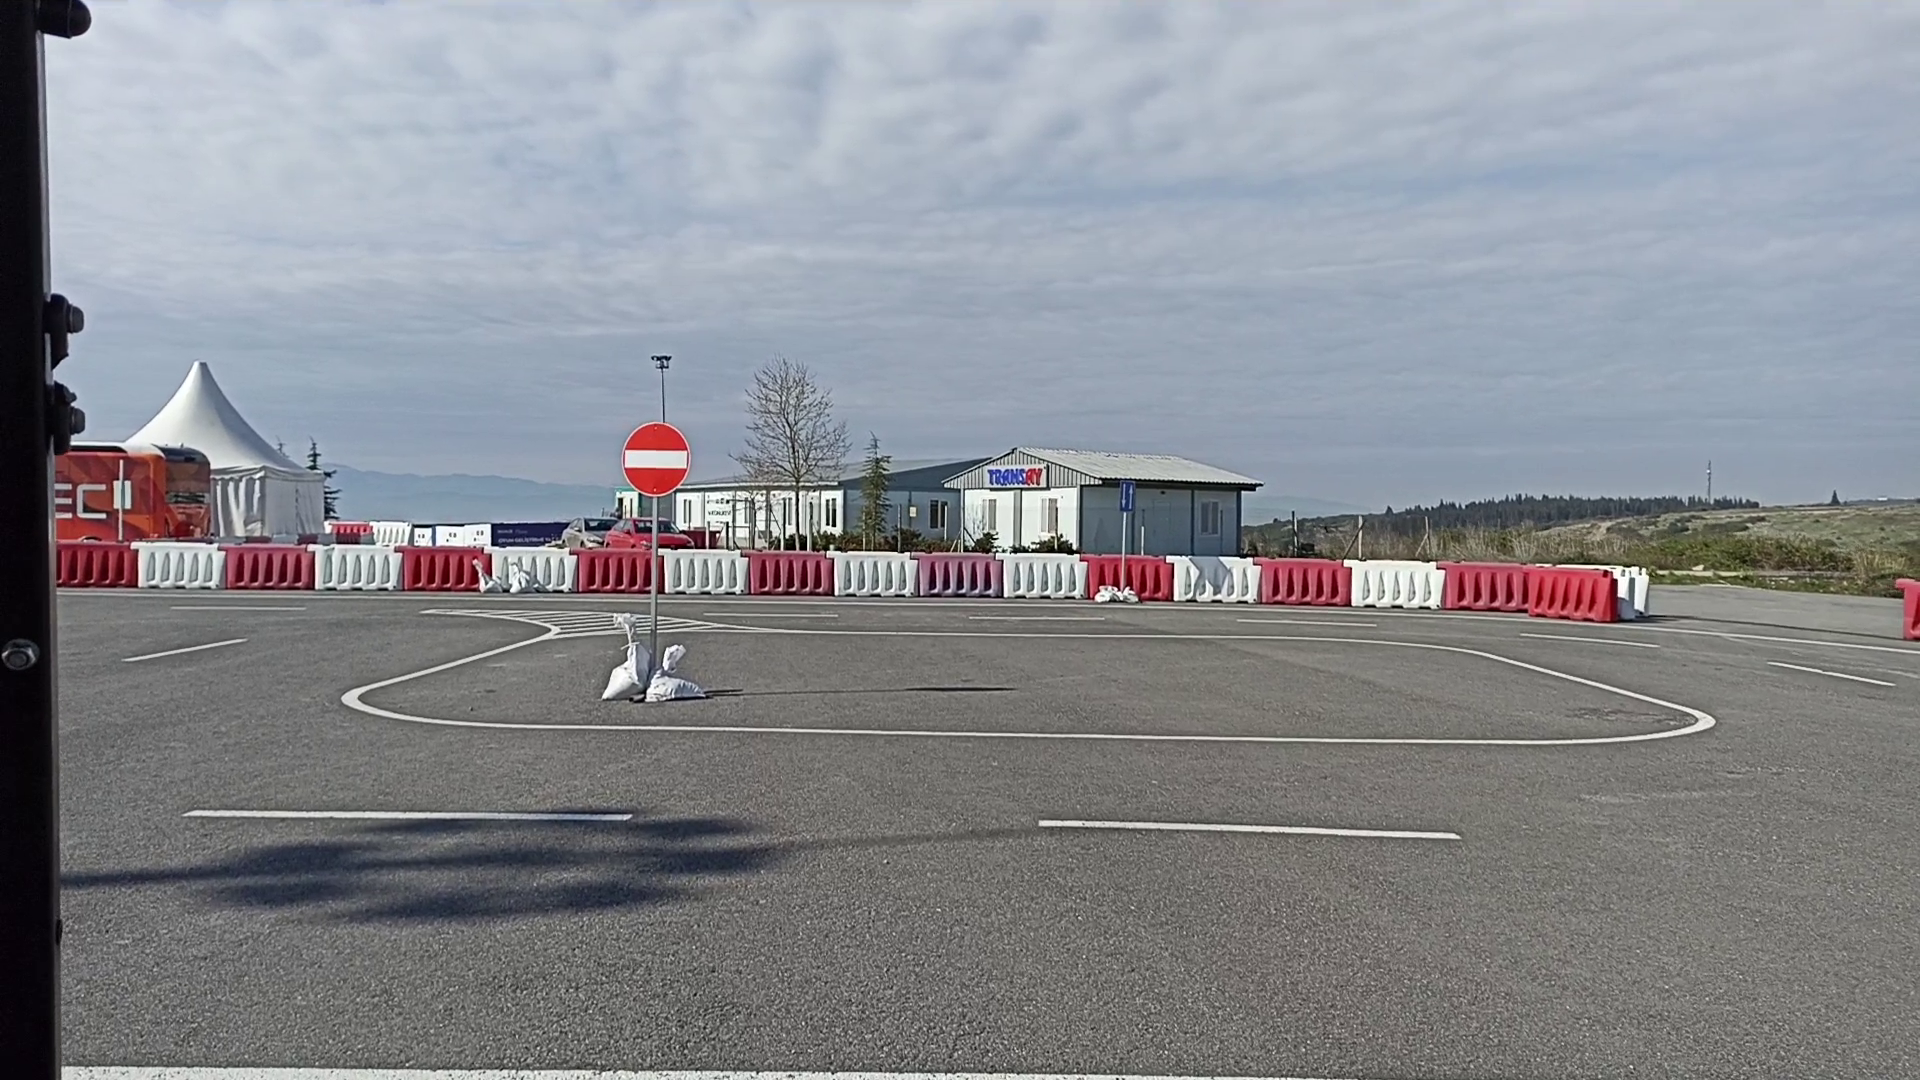noentryway: (620, 419, 694, 500)
